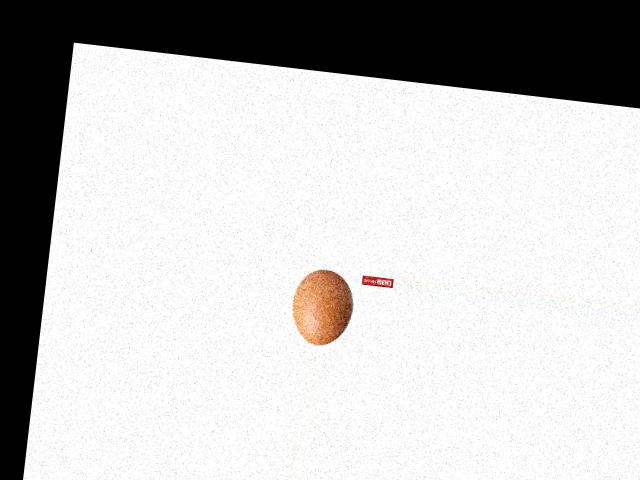egg: (288, 266, 356, 347)
